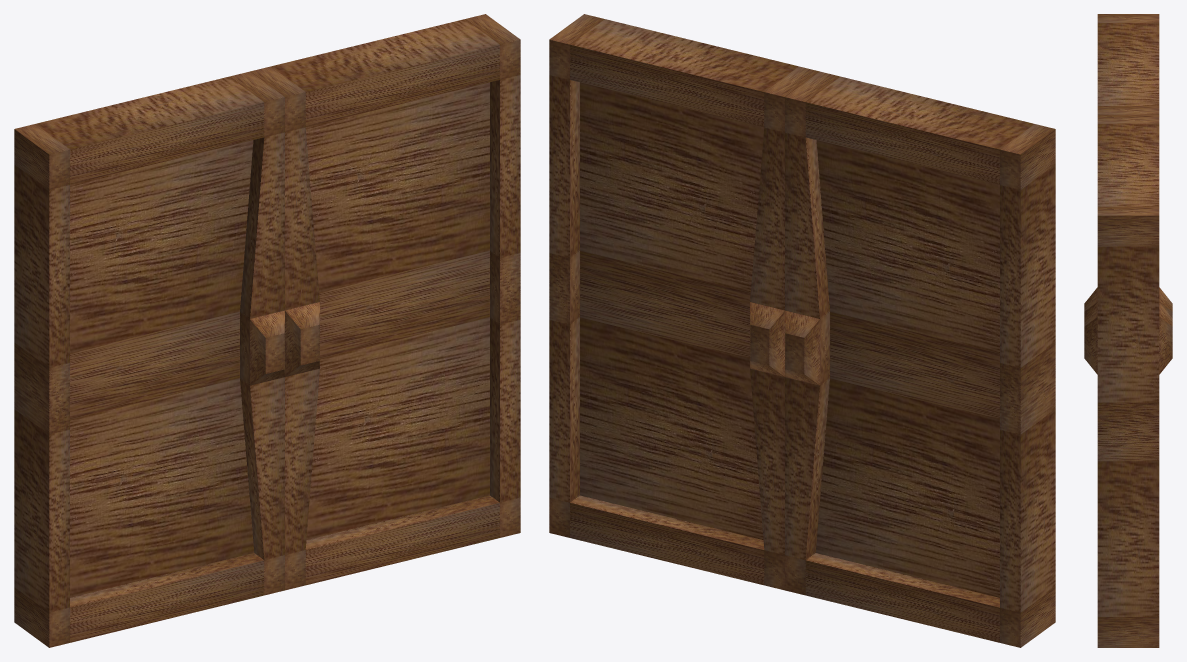
Rendered from maze-door1rot.obj.
3 views of the same model, side by side, from view 1: azimuth 30°, elevation 25°; view 2: azimuth 150°, elevation 25°; view 3: azimuth 270°, elevation 25° (orthographic). The views are drawn at different scales.
Parts seen in each view (by area): view 1: metal_double_door_Cube.001; view 2: metal_double_door_Cube.001; view 3: metal_double_door_Cube.001.
Part boxes in pixels (box(x1,y1,x2,y2)): metal_double_door_Cube.001: box(14, 14, 520, 647); metal_double_door_Cube.001: box(549, 14, 1055, 647); metal_double_door_Cube.001: box(1084, 14, 1172, 647).
Size of the model in its own units: 2 by 2 by 0.37.
